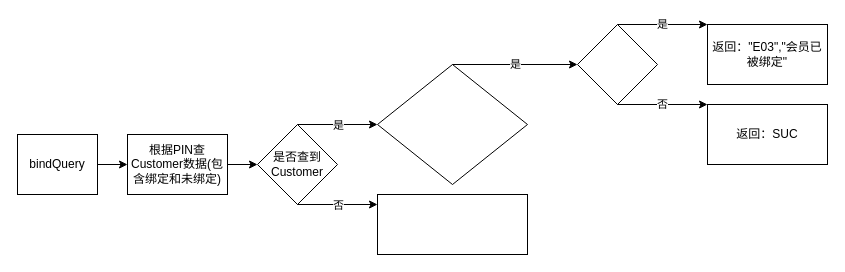
Image size: 845x272. Some labels were removed from this diagram. Each missing label, with the centre of its shape:
"DB中的phoneNo 和request PhoneNo 是否一致" goes at pixel 452 124.
"是否 已经绑定" goes at pixel 617 64.
"根据phoneNo查绑定的数据" goes at pixel 452 224.
